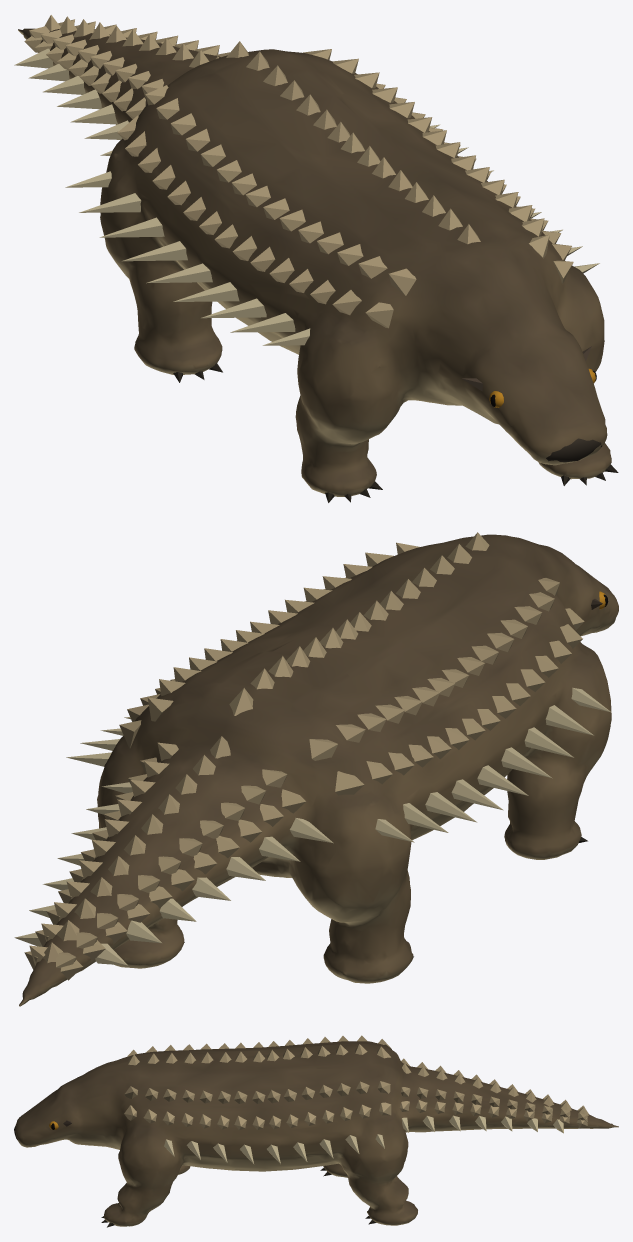
The model's file is Gargoyleosaurus.fbx.
3 views of the same model, one above another, from view 1: azimuth 30°, elevation 25°; view 2: azimuth 150°, elevation 25°; view 3: azimuth 270°, elevation 25° (orthographic). The views are drawn at different scales.
Visible parts, largest first — view 1: Gargoyleosaurus; view 2: Gargoyleosaurus; view 3: Gargoyleosaurus.
Boxes of the visible parts, <box> form: Gargoyleosaurus: <box>14,15,618,502</box>; Gargoyleosaurus: <box>14,532,618,1006</box>; Gargoyleosaurus: <box>14,1035,618,1227</box>.
Size of the model in its own units: 0.8315 by 0.6086 by 2.16.
